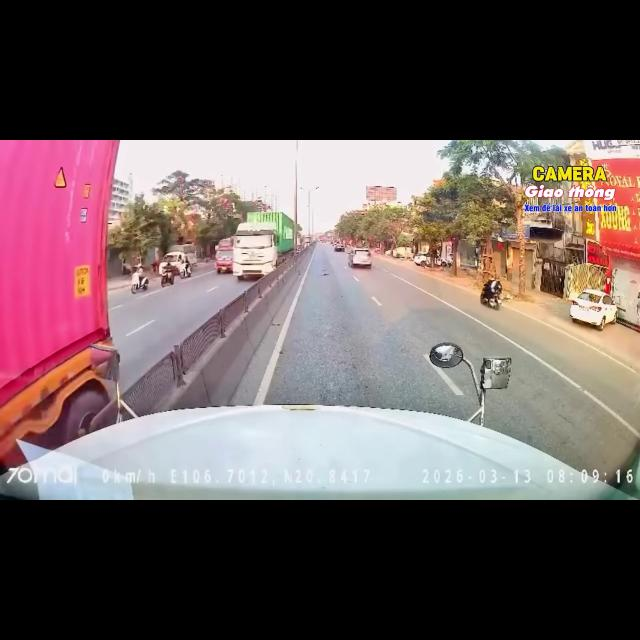car: (570, 289, 617, 330), (348, 248, 372, 268), (413, 253, 430, 266), (334, 244, 344, 251)
motorcycle: (64, 343, 629, 499), (429, 343, 511, 426), (480, 285, 502, 309), (159, 263, 175, 287), (131, 271, 148, 293), (481, 293, 502, 309), (161, 270, 174, 287), (180, 263, 191, 278)
truck: (0, 140, 118, 469), (233, 212, 293, 279), (214, 236, 233, 274), (168, 244, 199, 261), (303, 235, 311, 246)
